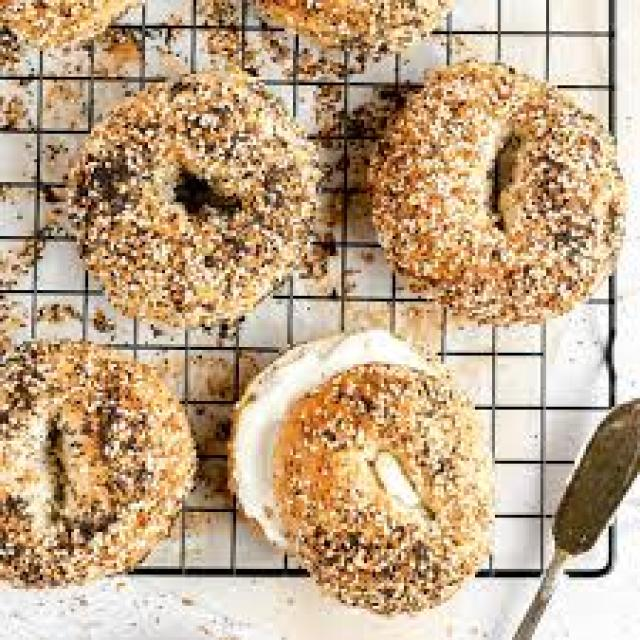Bagel: (370, 62, 625, 323), (69, 72, 315, 327), (275, 364, 491, 613), (0, 342, 196, 583)
